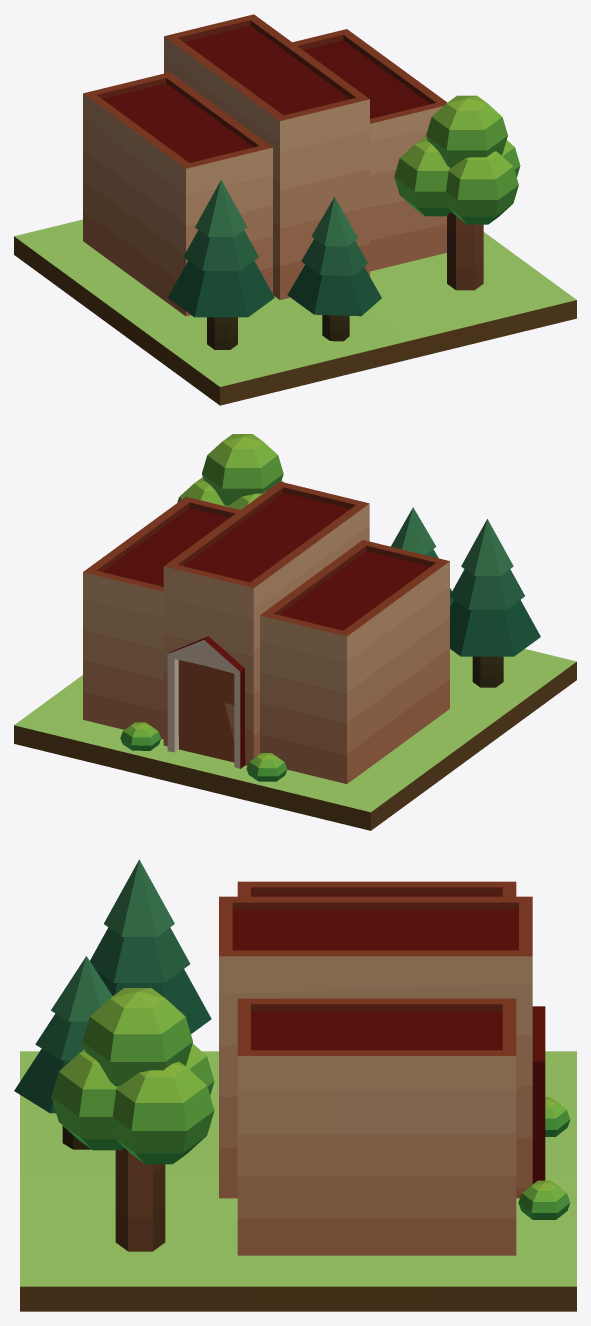
The model's file is maison recolte.fbx.
3 views of the same model, one above another, from view 1: azimuth 30°, elevation 25°; view 2: azimuth 150°, elevation 25°; view 3: azimuth 270°, elevation 25° (orthographic). The views are drawn at different scales.
Visible parts, largest first — view 1: maison recolte, base2, arbre2, sapin1, sapin2; view 2: maison recolte, base2, sapin1, arbre2, buisson.001, sapin2; view 3: maison recolte, base2, arbre2, sapin1, sapin2, buisson.001.
Part boxes in pixels (bbox=[...]): maison recolte: bbox=[83, 14, 447, 316]; base2: bbox=[14, 219, 576, 405]; arbre2: bbox=[394, 95, 520, 290]; sapin1: bbox=[168, 180, 274, 349]; sapin2: bbox=[287, 197, 381, 341]; maison recolte: bbox=[83, 481, 449, 783]; base2: bbox=[14, 649, 576, 830]; sapin1: bbox=[450, 519, 540, 687]; arbre2: bbox=[177, 434, 283, 509]; buisson.001: bbox=[120, 722, 287, 781]; sapin2: bbox=[391, 507, 453, 606]; maison recolte: bbox=[219, 881, 545, 1255]; base2: bbox=[20, 1051, 576, 1311]; arbre2: bbox=[51, 988, 214, 1251]; sapin1: bbox=[90, 859, 211, 1033]; sapin2: bbox=[14, 956, 112, 1149]; buisson.001: bbox=[518, 1097, 570, 1219].
Size of the model in its own units: 400 by 404 by 219.
